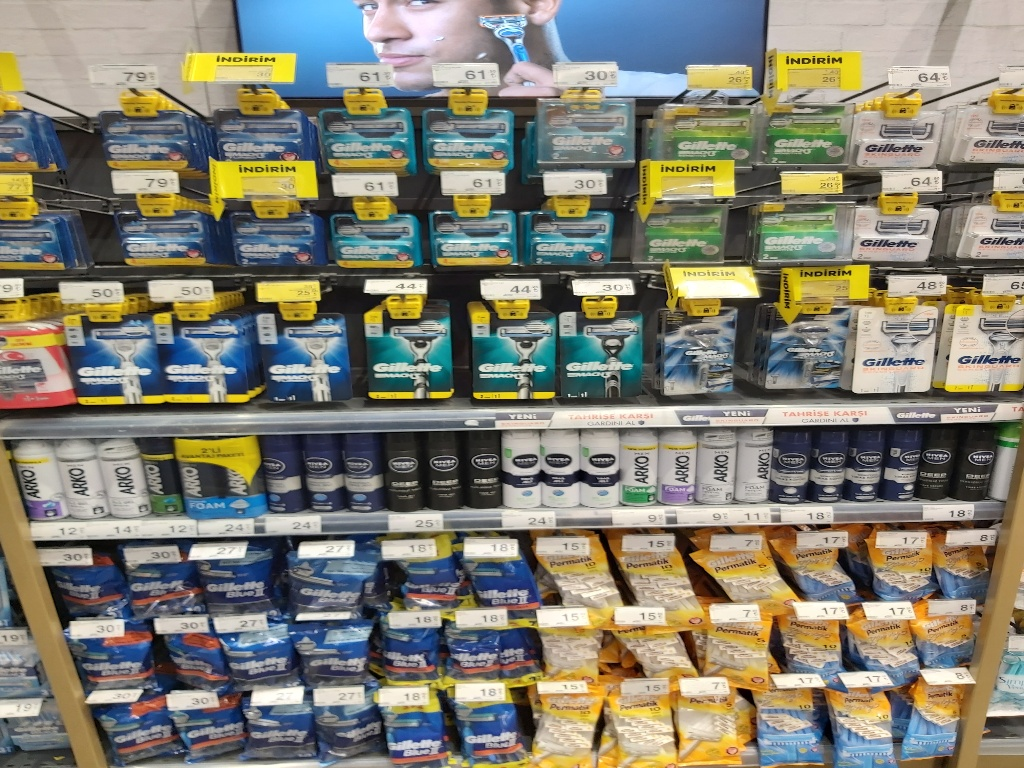urun: (61, 310, 164, 411), (454, 306, 557, 407), (155, 306, 257, 407), (255, 305, 357, 406), (352, 307, 454, 408), (553, 306, 655, 407), (654, 303, 756, 404), (940, 292, 1024, 410), (200, 102, 321, 177), (759, 302, 850, 401), (854, 297, 945, 396), (521, 97, 643, 166), (621, 198, 741, 268), (632, 97, 751, 166), (315, 97, 428, 169), (754, 95, 856, 174), (421, 95, 527, 169), (101, 198, 210, 269), (319, 201, 428, 271), (407, 204, 516, 274), (209, 205, 317, 275), (749, 198, 855, 269), (517, 207, 625, 273), (283, 548, 385, 611), (846, 201, 940, 266), (852, 109, 946, 174), (751, 691, 826, 768), (824, 691, 899, 768), (611, 538, 692, 609), (535, 536, 613, 608), (669, 695, 749, 765), (603, 698, 682, 768), (532, 687, 599, 768), (293, 625, 378, 684), (695, 541, 777, 602), (778, 541, 860, 602), (47, 559, 133, 617), (70, 631, 156, 689), (691, 618, 773, 678), (769, 611, 851, 671), (383, 545, 461, 608), (458, 548, 536, 611), (454, 698, 525, 767), (202, 548, 282, 609), (220, 625, 300, 686), (608, 620, 692, 678), (900, 691, 963, 768), (379, 699, 449, 768), (241, 705, 317, 768), (858, 540, 932, 602), (845, 616, 919, 677), (904, 611, 978, 672), (15, 438, 63, 526), (317, 699, 383, 763), (55, 435, 102, 524), (95, 436, 142, 525), (131, 435, 178, 524), (535, 620, 604, 680), (374, 625, 445, 682), (925, 540, 989, 602), (93, 708, 166, 762), (131, 564, 204, 618), (154, 637, 227, 691), (173, 708, 246, 762), (175, 436, 220, 515), (340, 436, 385, 515), (220, 443, 265, 521), (298, 434, 343, 512), (379, 435, 424, 513), (461, 430, 506, 508), (500, 431, 545, 509), (540, 430, 585, 508), (576, 434, 621, 512), (618, 431, 663, 509), (691, 429, 736, 507), (731, 426, 776, 504), (259, 439, 303, 517), (419, 429, 463, 507), (657, 431, 701, 509), (438, 628, 506, 678), (769, 430, 810, 502), (808, 431, 849, 503), (847, 430, 888, 502), (919, 431, 960, 503), (955, 430, 996, 502), (884, 428, 925, 499)
urun2: (88, 108, 197, 178)
